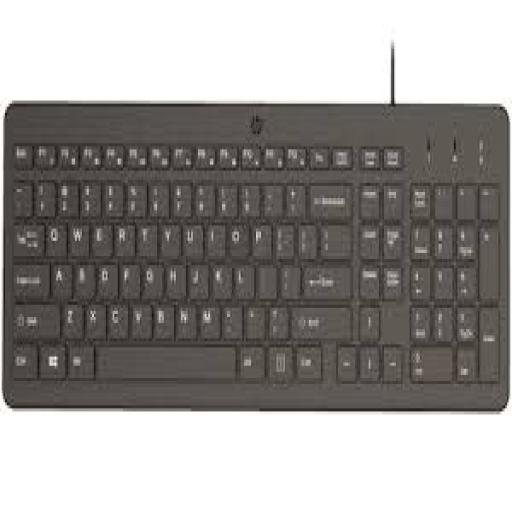KEYBOARD-2: (0, 101, 510, 408)
